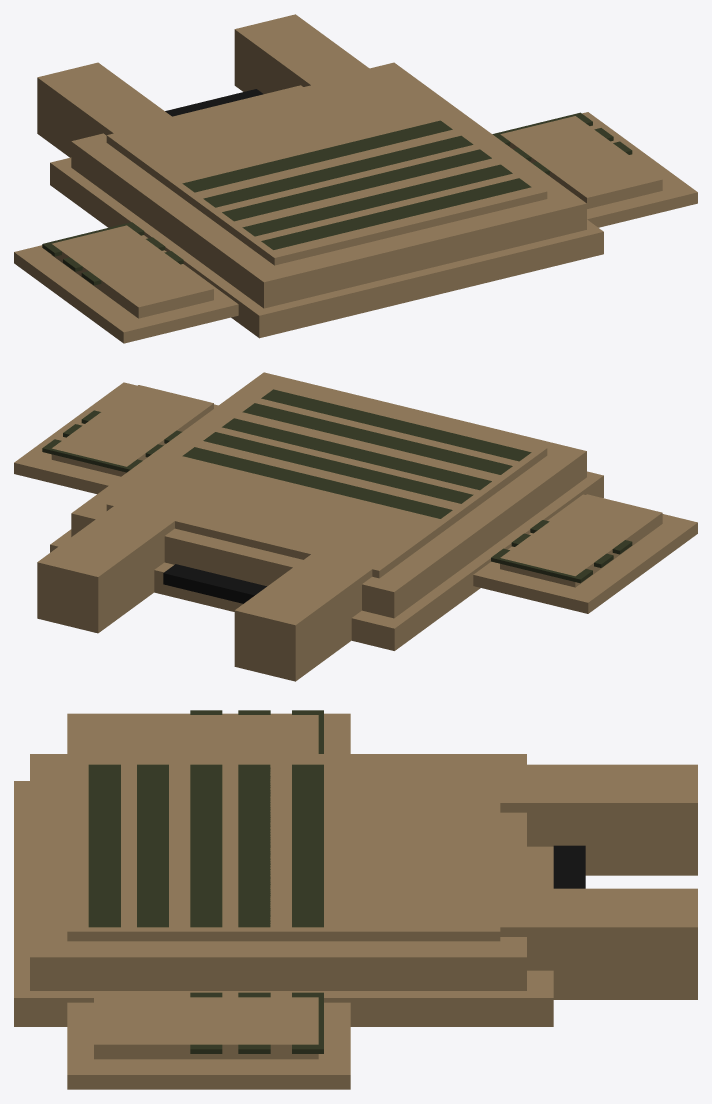
The model's file is ballistic_vest_esapi.glb.
The picture shows the model from 3 angles, top to bottom: view 1: azimuth 30°, elevation 25°; view 2: azimuth 150°, elevation 25°; view 3: azimuth 270°, elevation 25°; orthographic projection. The views are drawn at different scales.
Visible parts, largest first — view 1: ballistic_vest_esapi:compound; view 2: ballistic_vest_esapi:compound; view 3: ballistic_vest_esapi:compound.
Boxes of the visible parts, x1,y1,x2,y2 form: ballistic_vest_esapi:compound: [14, 14, 697, 343]; ballistic_vest_esapi:compound: [14, 372, 697, 681]; ballistic_vest_esapi:compound: [14, 710, 697, 1089].
Size of the model in its own units: 0.64 by 0.06 by 0.512.
